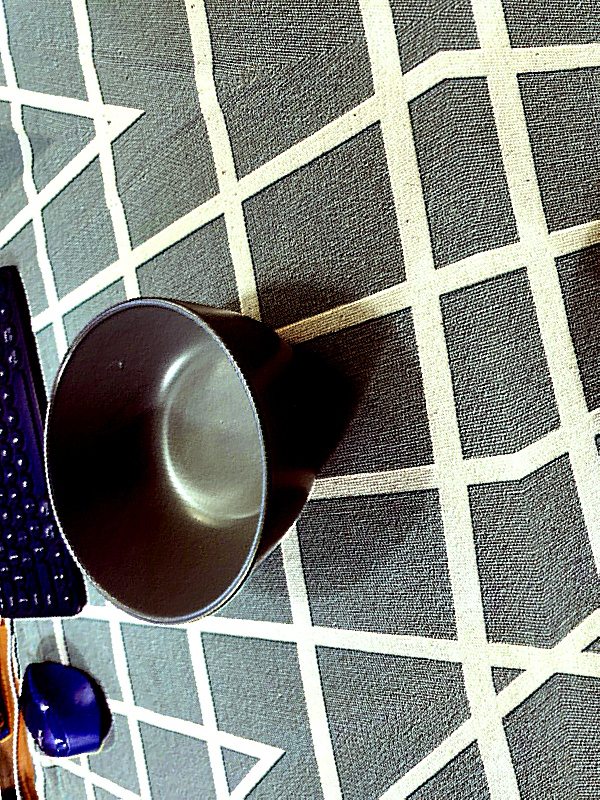bowl_big: (15, 240, 357, 668)
